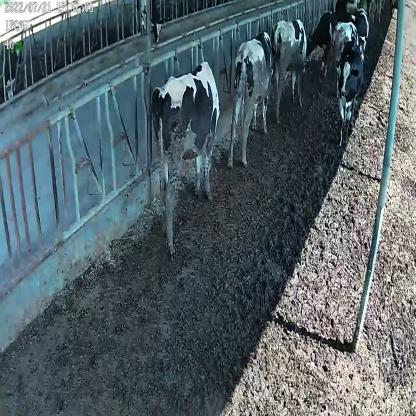cow: (151, 60, 220, 253), (228, 30, 274, 173), (271, 16, 308, 118), (334, 42, 363, 146)
